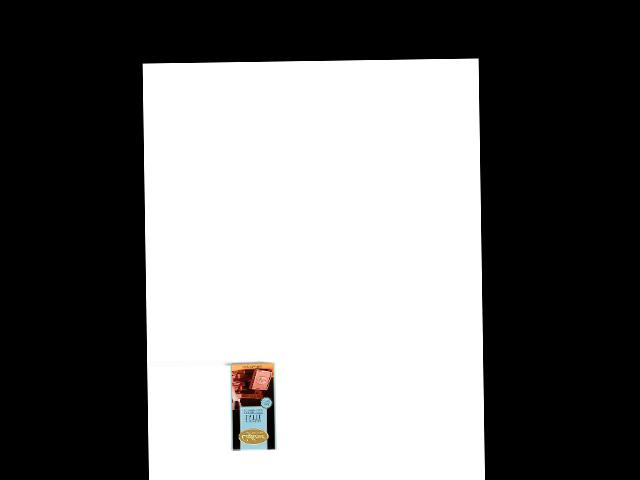chocolate: (228, 361, 277, 451)
